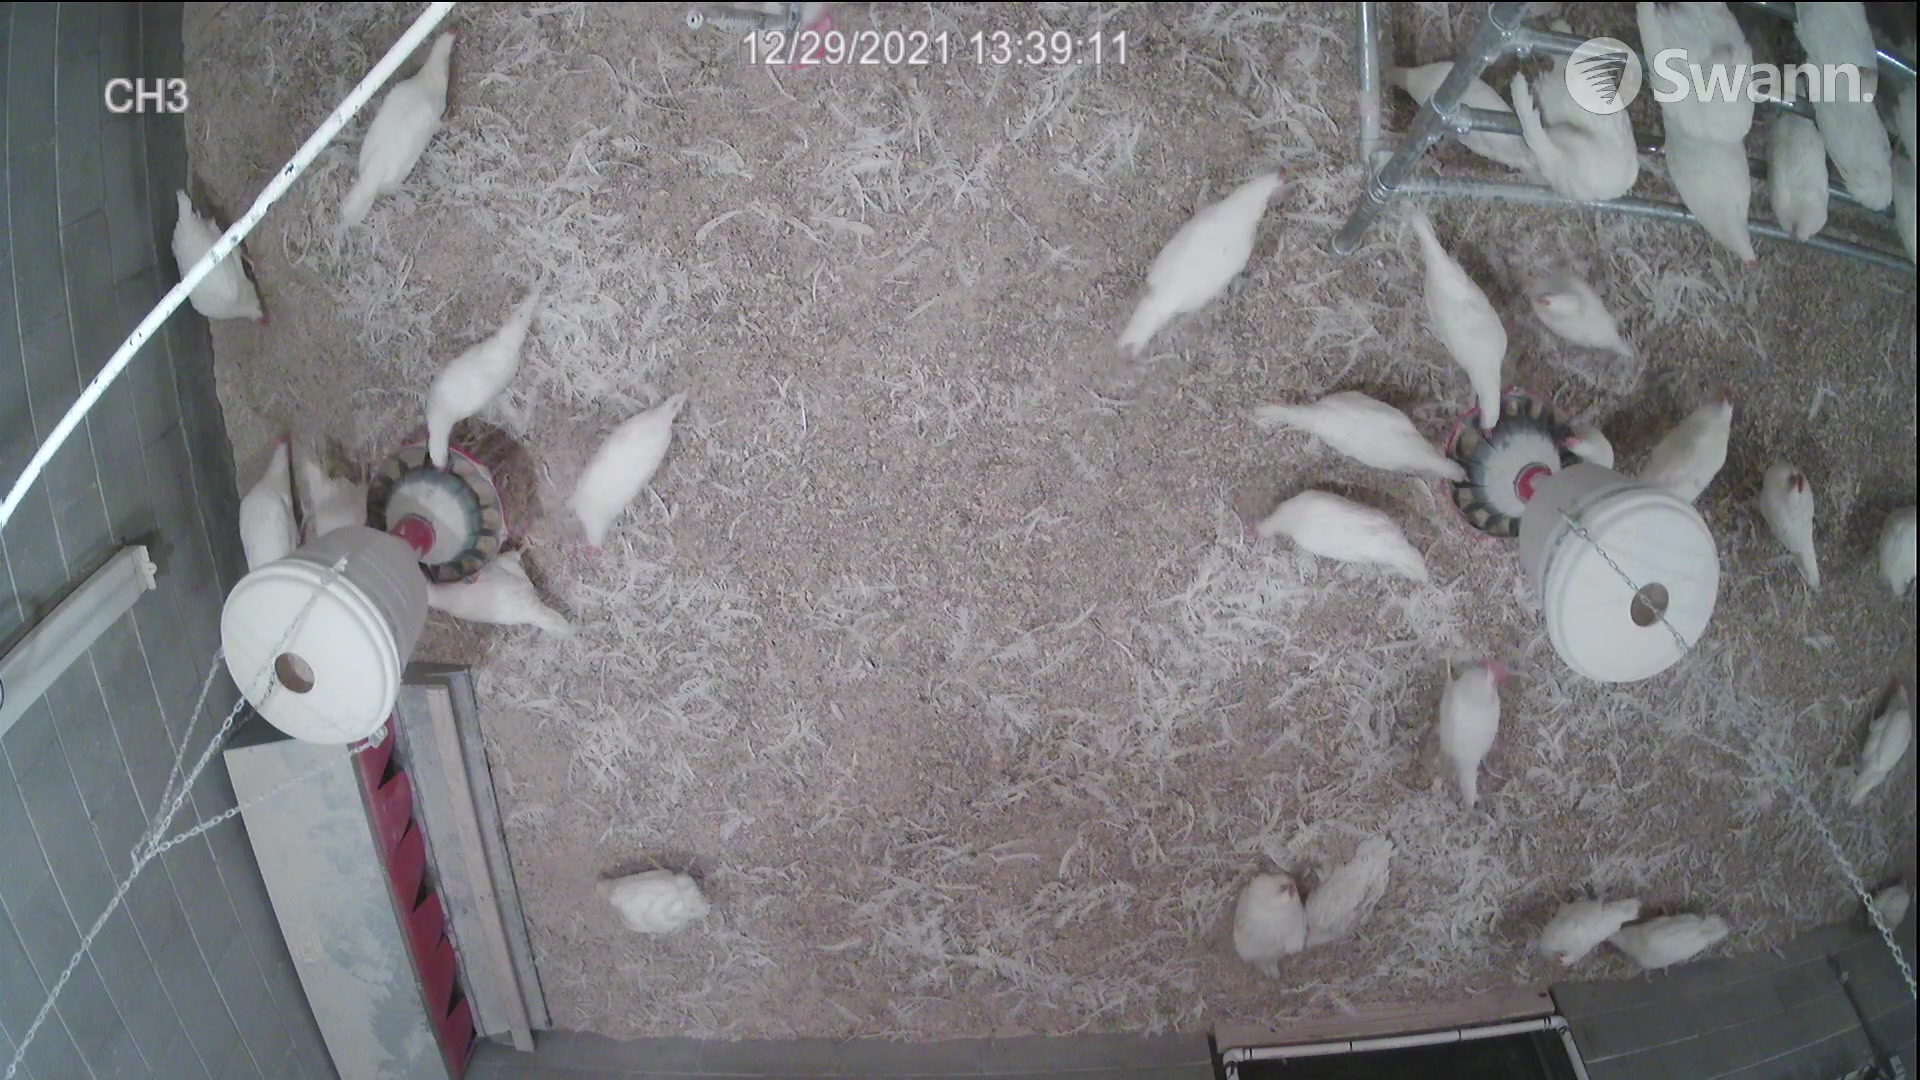Dust Bathing: (1305, 828, 1394, 956)
Feeding: (400, 280, 563, 462), (1246, 378, 1505, 487), (1399, 196, 1520, 422)
Foraging: (315, 25, 488, 215), (1117, 170, 1283, 353), (166, 186, 272, 338), (1245, 495, 1408, 589), (582, 869, 716, 942)
Perching: (1491, 22, 1636, 204), (1654, 105, 1774, 261), (1796, 62, 1909, 207), (1651, 0, 1754, 138), (1746, 103, 1841, 232)
